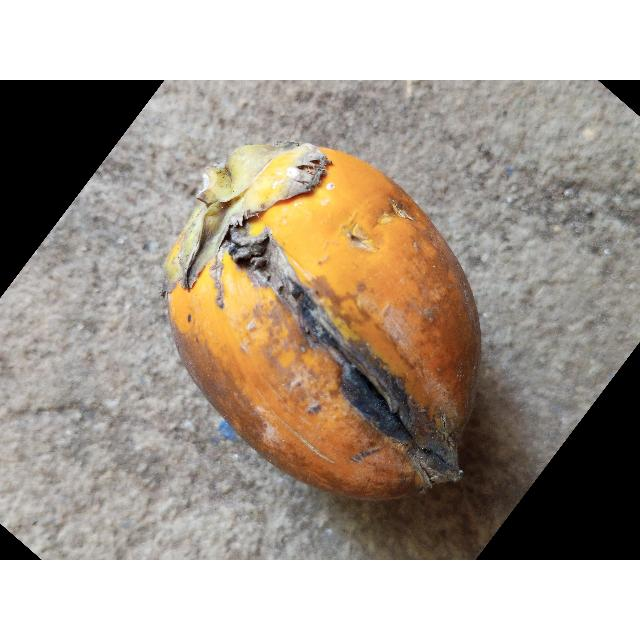damaged: (164, 142, 480, 499)
